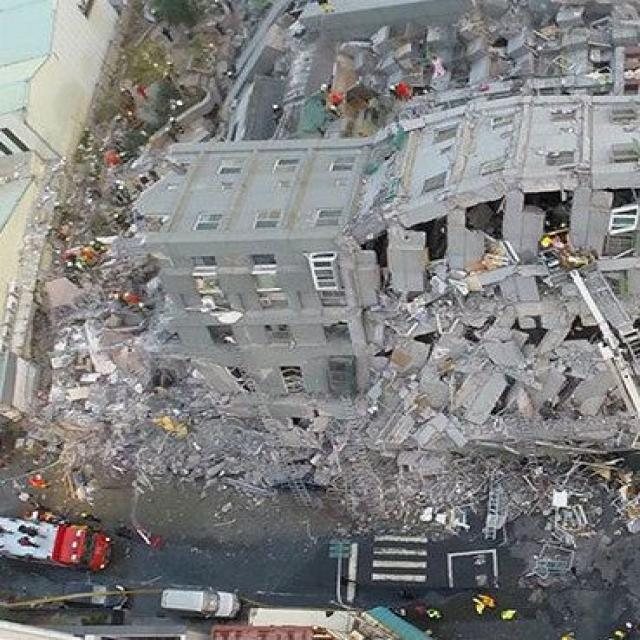collapsed_building: (136, 1, 638, 500)
